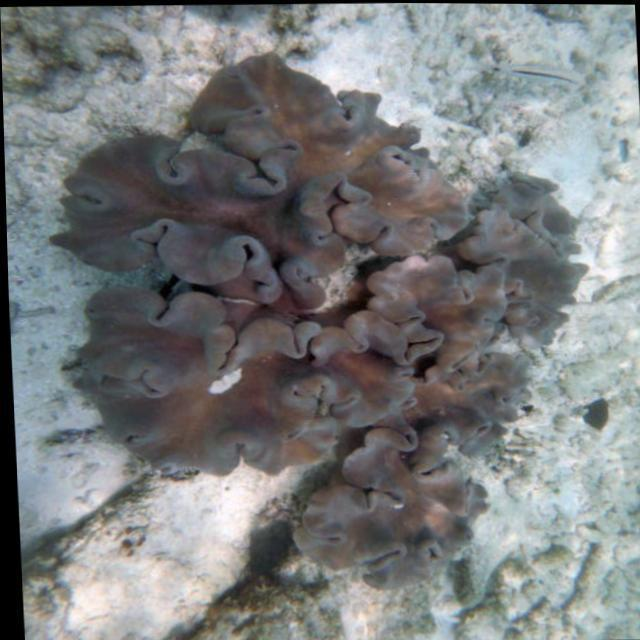Dead Coral: (35, 81, 604, 613)
